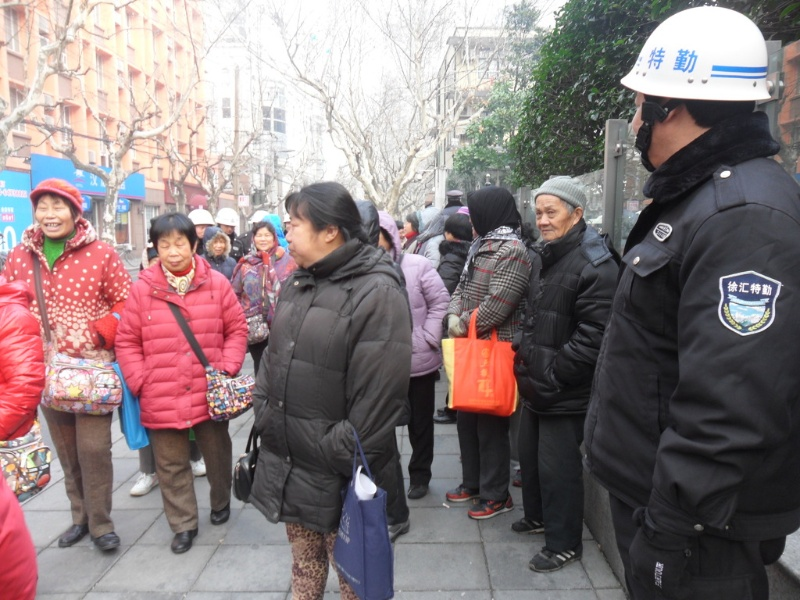Baret: (621, 6, 769, 102)
